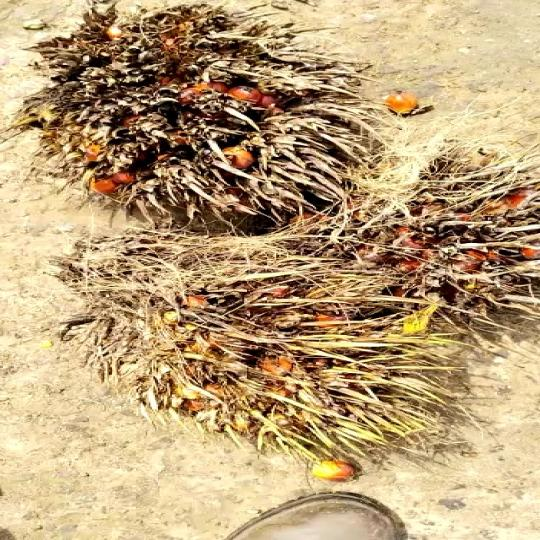terlalu masak: (66, 219, 475, 457), (43, 4, 326, 220)
